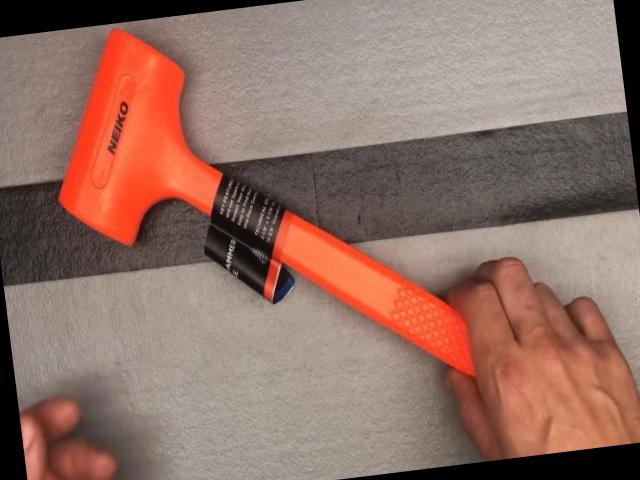hammer: (40, 0, 627, 480)
